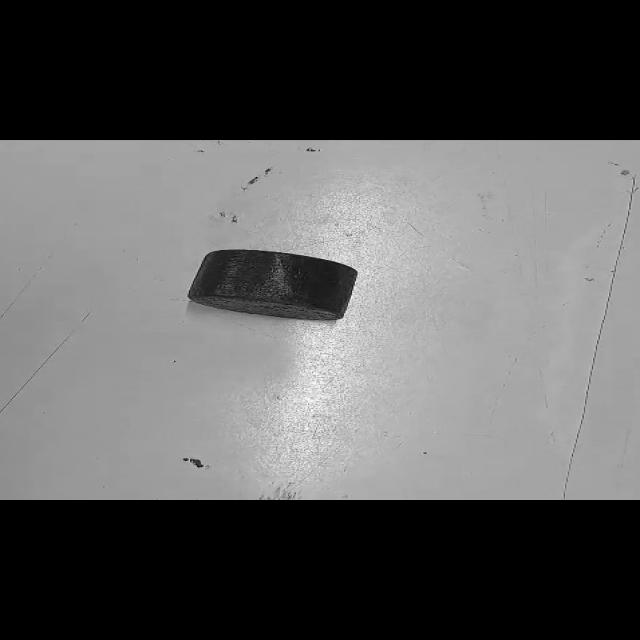bcircle: (188, 250, 357, 320)
